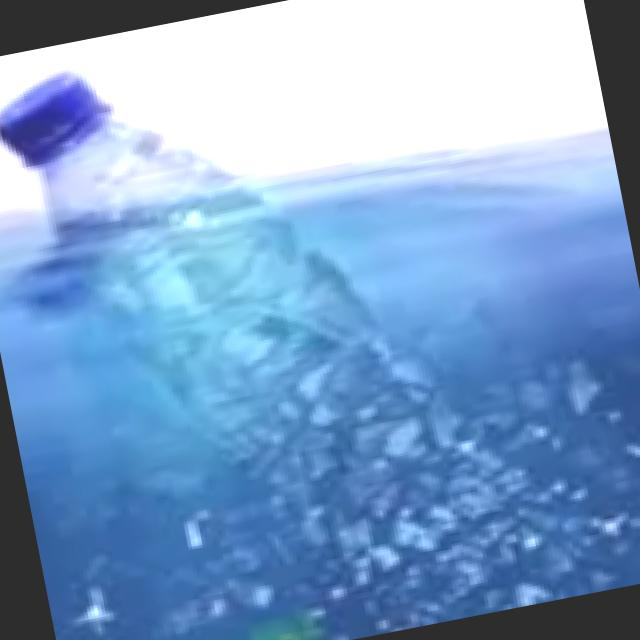Recycle: (0, 9, 457, 526)
